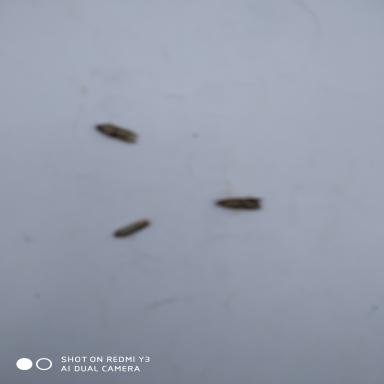pbw: (91, 121, 141, 146), (206, 194, 268, 214), (110, 217, 153, 243)
